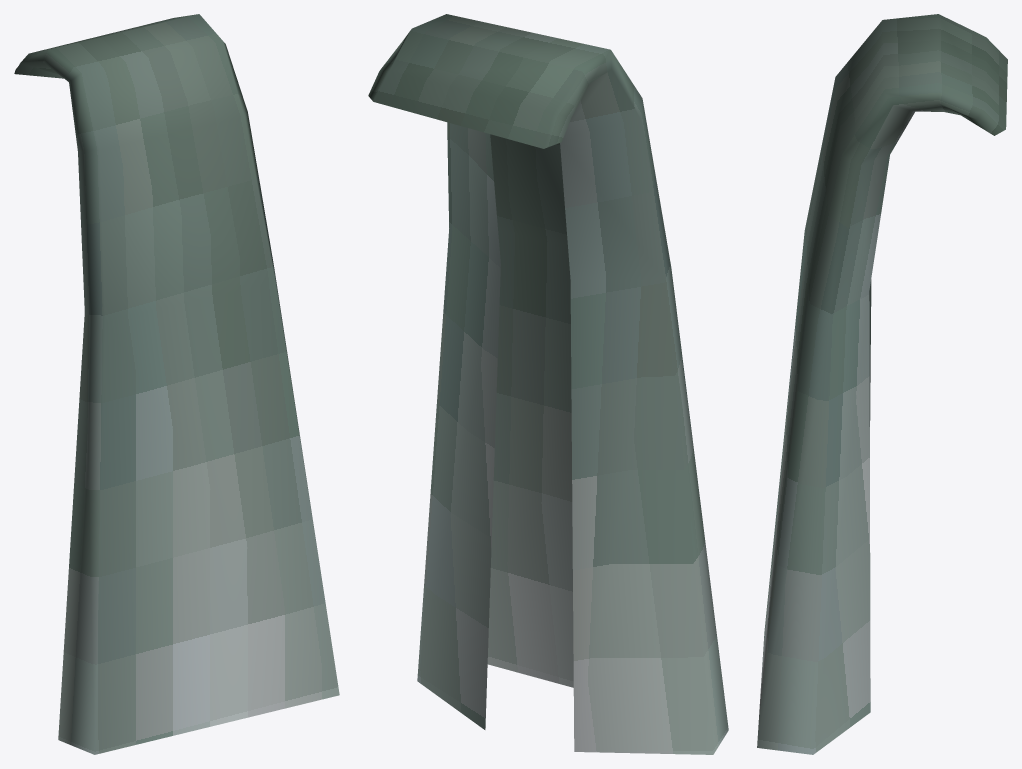
File: vanilla_lod_waterfalls_fxwaterfallbodytall02_lod-536a6703.glb
3 views of the same model, side by side, from view 1: azimuth 30°, elevation 25°; view 2: azimuth 150°, elevation 25°; view 3: azimuth 270°, elevation 25° (orthographic). The views are drawn at different scales.
Visible parts, largest first — view 1: es|FXWaterfallBodyTallInner02.001; view 2: es|FXWaterfallBodyTallInner02.001; view 3: es|FXWaterfallBodyTallInner02.001.
Boxes of the visible parts, bbox=[...] form: es|FXWaterfallBodyTallInner02.001: bbox=[14, 14, 339, 754]; es|FXWaterfallBodyTallInner02.001: bbox=[368, 14, 728, 754]; es|FXWaterfallBodyTallInner02.001: bbox=[757, 14, 1007, 754].
Size of the model in its own units: 14.54 by 33.87 by 12.02.
1 material, 1 textured.
